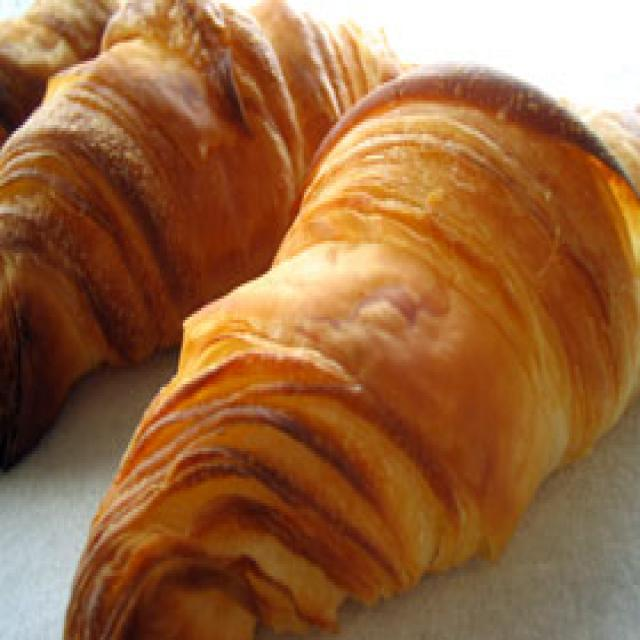Croissant: (39, 33, 638, 640)
